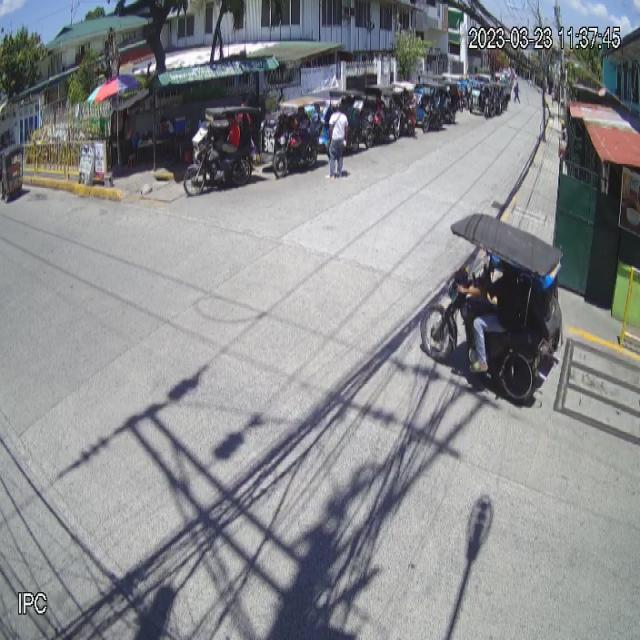Tricycle: (420, 214, 565, 402)
